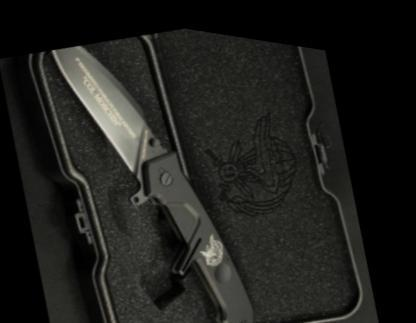knife: (34, 17, 196, 204)
